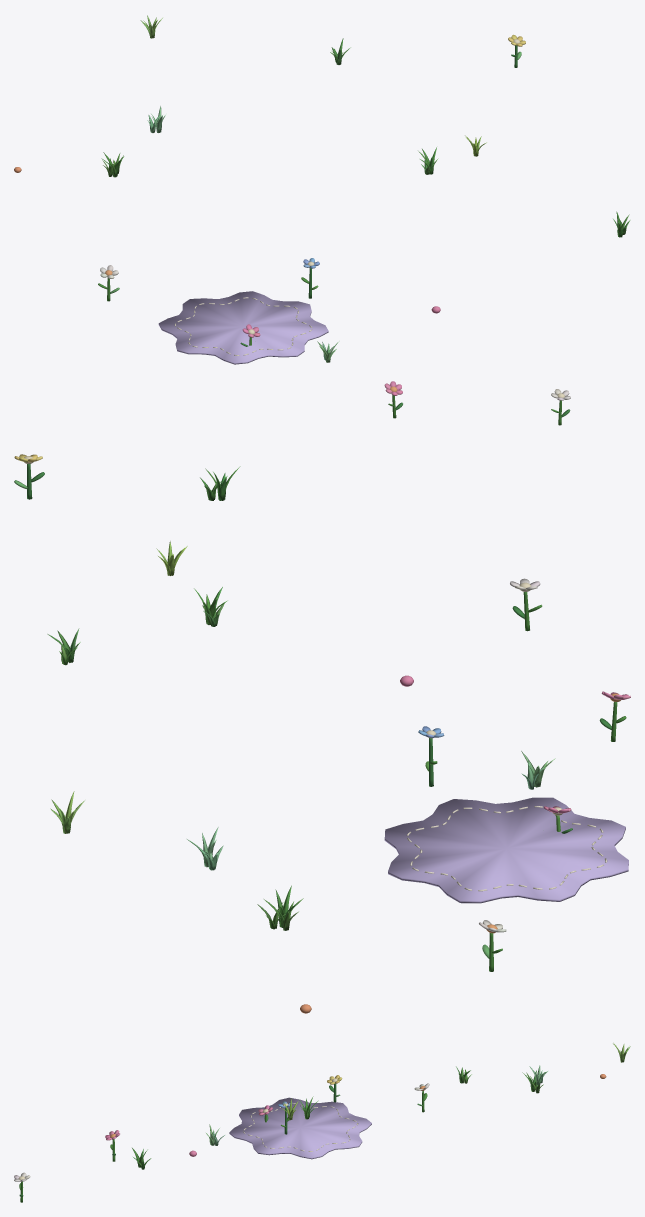
The model's file is W1_FloraRing_12_10.fbx.
3 views of the same model, one above another, from view 1: azimuth 30°, elevation 25°; view 2: azimuth 150°, elevation 25°; view 3: azimuth 270°, elevation 25° (orthographic). The views are drawn at different scales.
Visible parts, largest first — view 1: W1_FloraRing_12_10; view 2: W1_FloraRing_12_10; view 3: W1_FloraRing_12_10.
Boxes of the visible parts, left/top/right/bottom form: W1_FloraRing_12_10: left=14, top=15, right=630, bottom=425; W1_FloraRing_12_10: left=14, top=454, right=630, bottom=1013; W1_FloraRing_12_10: left=14, top=1043, right=630, bottom=1202.
Size of the model in its own units: 2.19 by 1.25 by 3.7.
